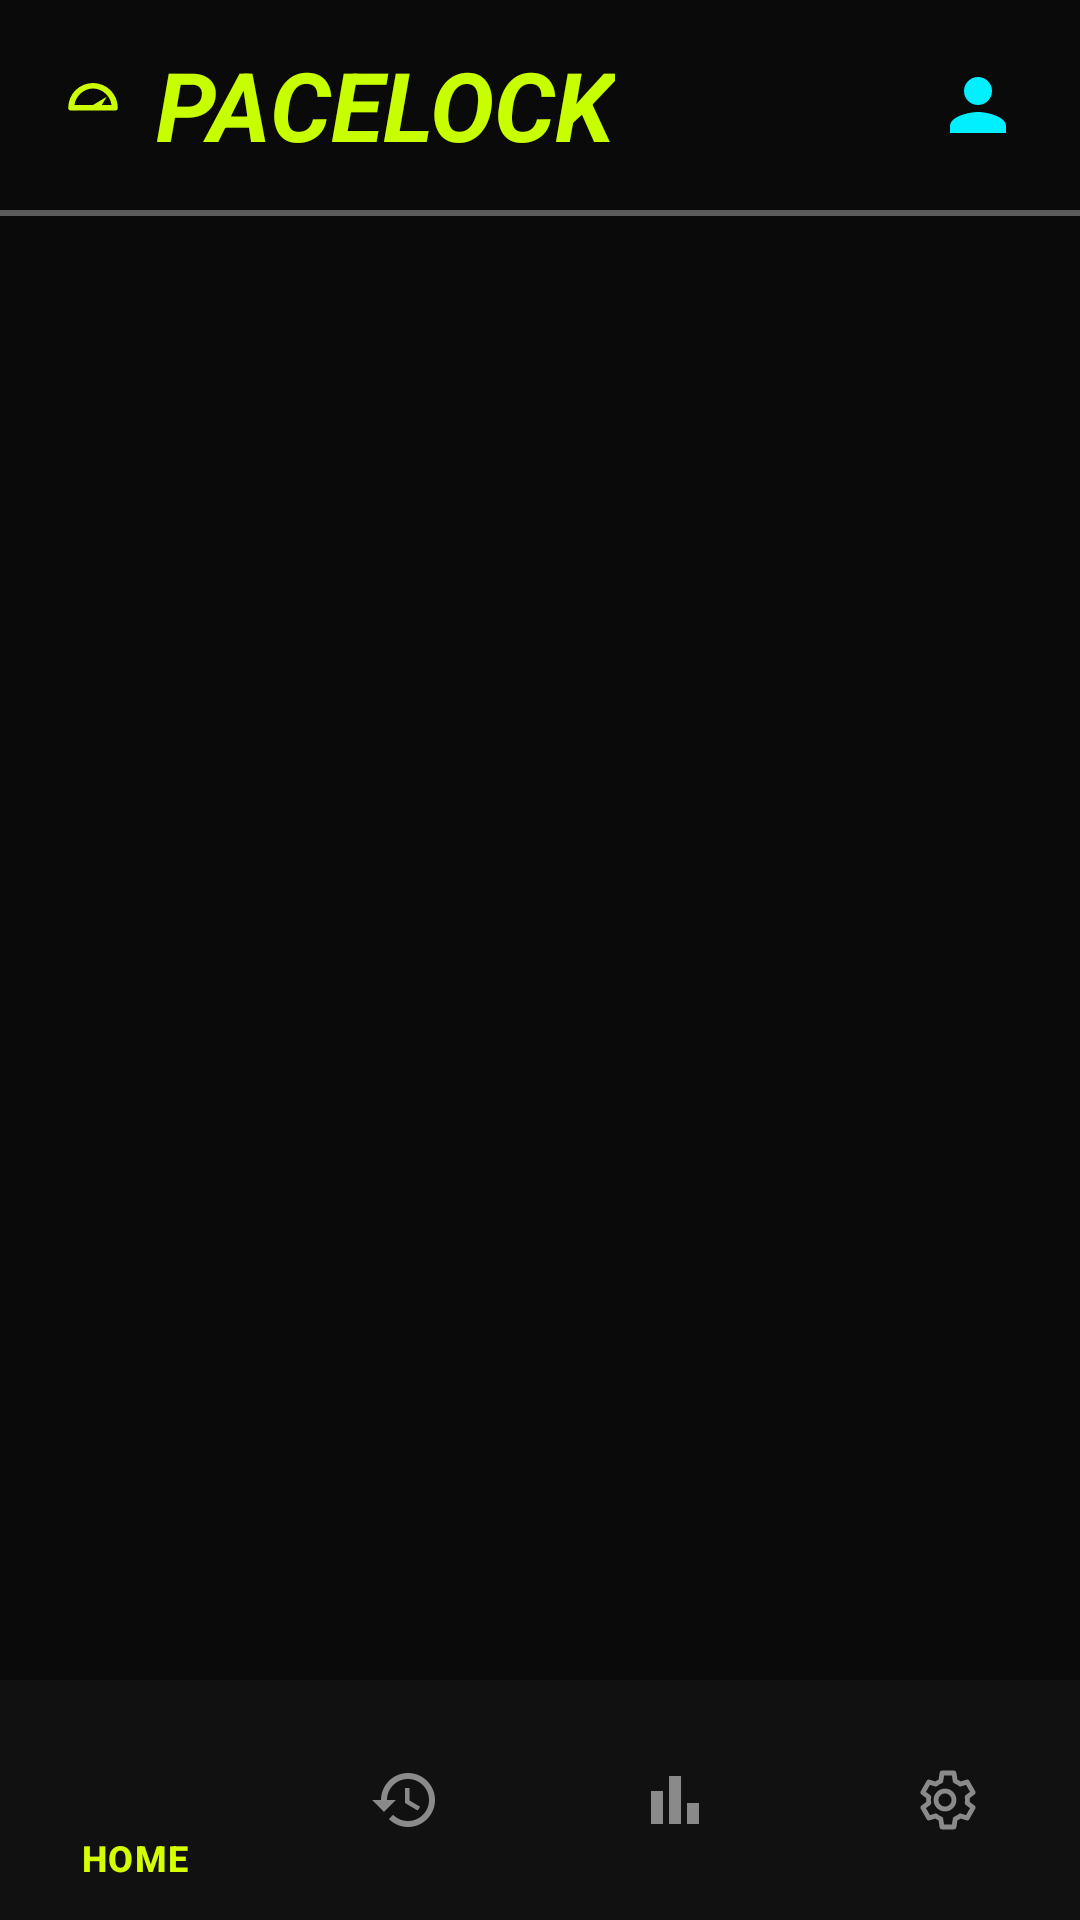

Screen size 1080w x 1920h. Icon name, then its center in pixels as point (x, y):
person: point (978, 105)
speedometer: point (93, 97)
